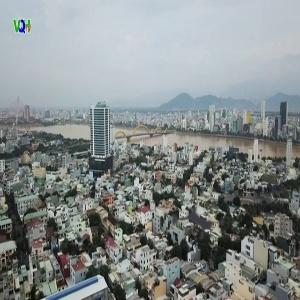drone: (153, 176, 250, 273)
